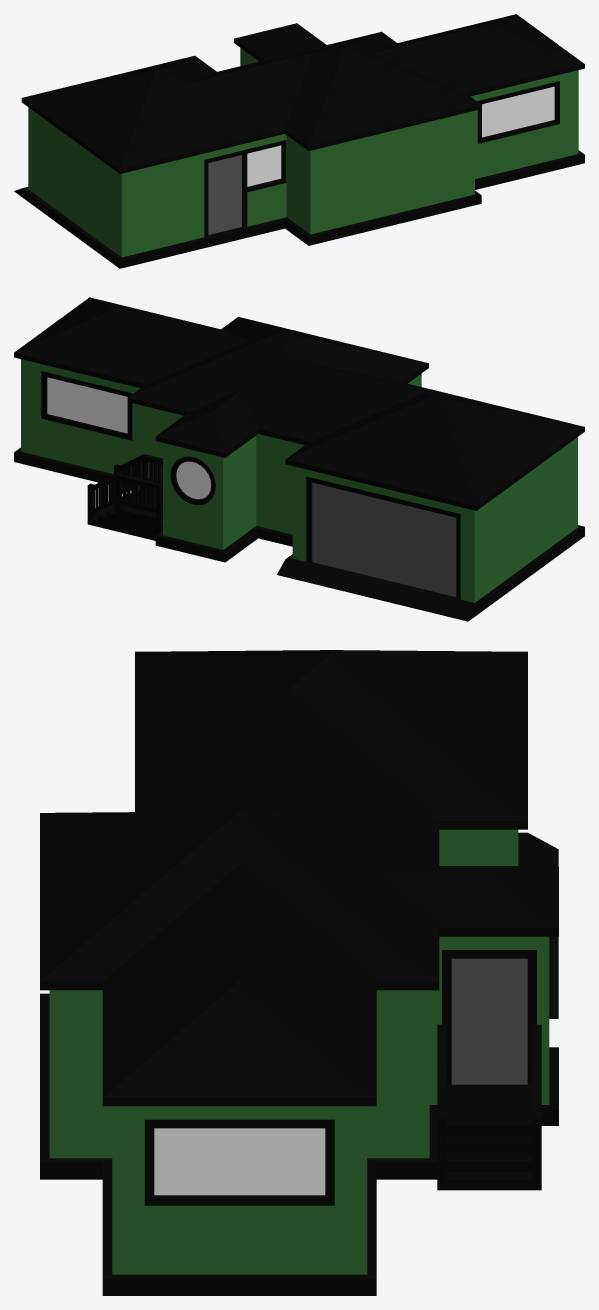
File: House #6.fbx
3 views of the same model, one above another, from view 1: azimuth 30°, elevation 25°; view 2: azimuth 150°, elevation 25°; view 3: azimuth 270°, elevation 25° (orthographic). The views are drawn at different scales.
Parts seen in each view (by area): view 1: building_001; view 2: building_001; view 3: building_001.
Part boxes in pixels (<box>): building_001: <box>14,14,584,268</box>; building_001: <box>14,297,584,621</box>; building_001: <box>40,650,558,1295</box>.
Bounding box in the file's own units: 1111 × 330 × 546.
